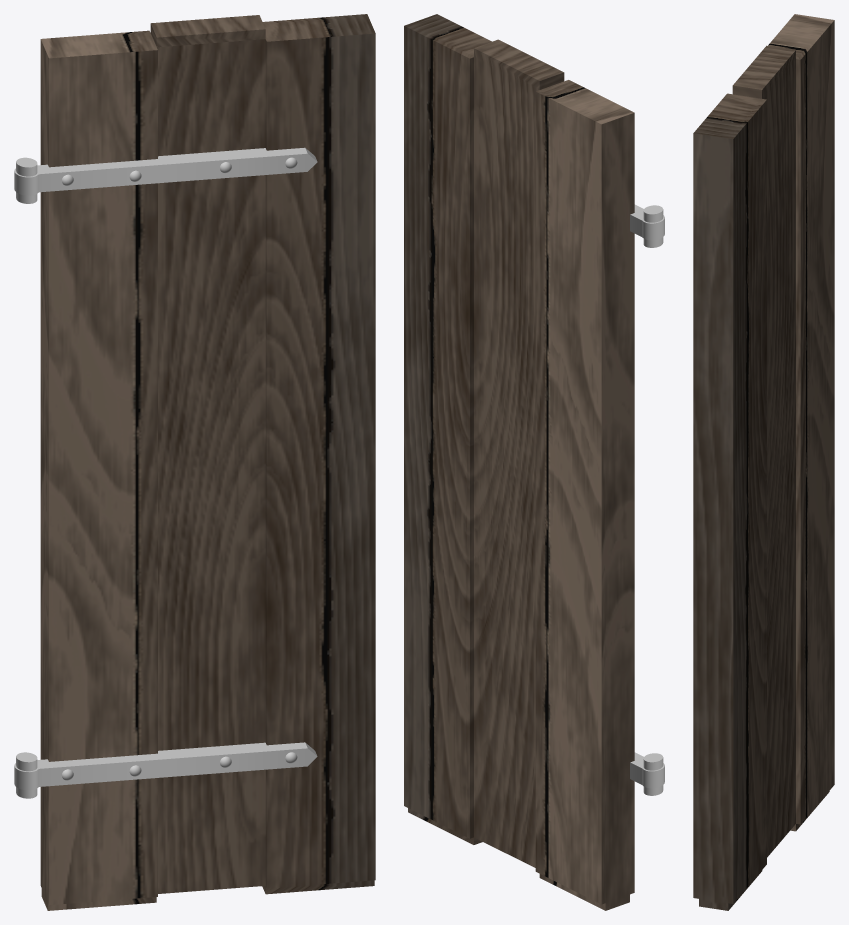
The model's file is SM_Shutter_Left.fbx.
3 renders of one model, left to right at view 1: azimuth 30°, elevation 25°; view 2: azimuth 150°, elevation 25°; view 3: azimuth 270°, elevation 25°, orthographic. The views are drawn at different scales.
Parts seen in each view (by area): view 1: SM_Shutter8; view 2: SM_Shutter8; view 3: SM_Shutter8.
Part boxes in pixels (x1,y1,x2,y2): SM_Shutter8: (14, 14, 375, 910); SM_Shutter8: (404, 14, 664, 910); SM_Shutter8: (693, 14, 834, 910).
Size of the model in its own units: 52.67 by 138 by 22.57.
